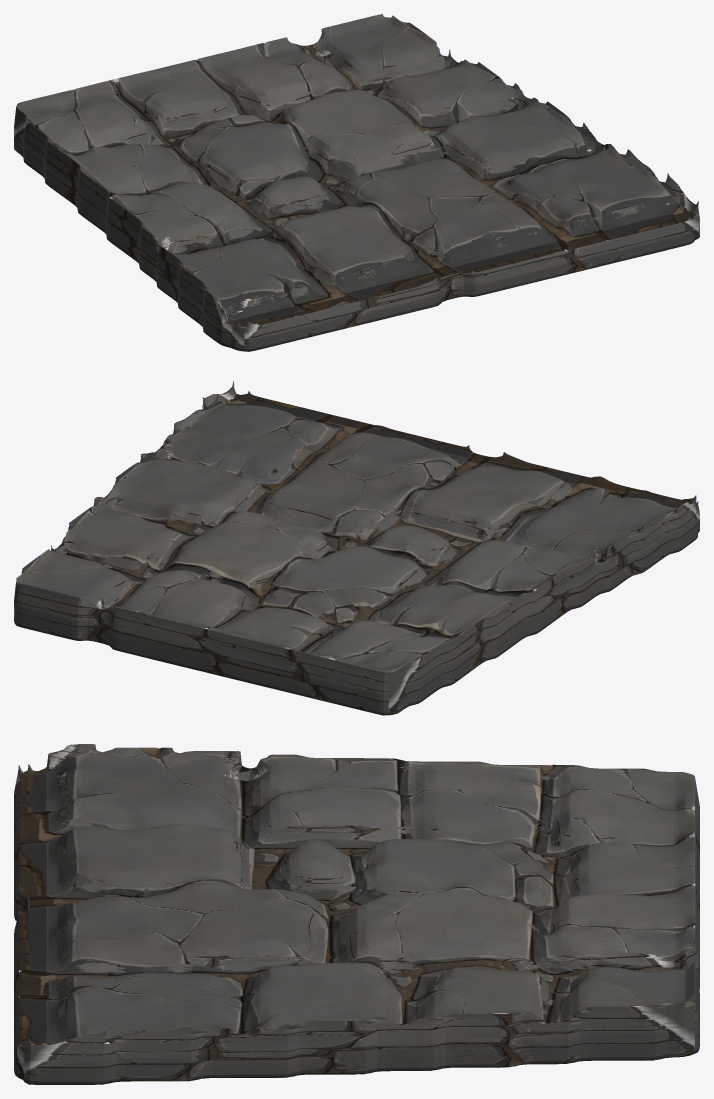
Rendered from SM_Dungeon_Floor_A.glb.
3 renders of one model, top to bottom at view 1: azimuth 30°, elevation 25°; view 2: azimuth 150°, elevation 25°; view 3: azimuth 270°, elevation 25°, orthographic. The views are drawn at different scales.
Parts seen in each view (by area): view 1: SM_Dungeon_Floor_A_Raw; view 2: SM_Dungeon_Floor_A_Raw; view 3: SM_Dungeon_Floor_A_Raw.
Part boxes in pixels (x1,y1,x2,y2): SM_Dungeon_Floor_A_Raw: (14, 14, 699, 351); SM_Dungeon_Floor_A_Raw: (14, 381, 699, 715); SM_Dungeon_Floor_A_Raw: (14, 744, 699, 1084).
Size of the model in its own units: 4 by 0.35 by 4.
1 material, 1 textured.
